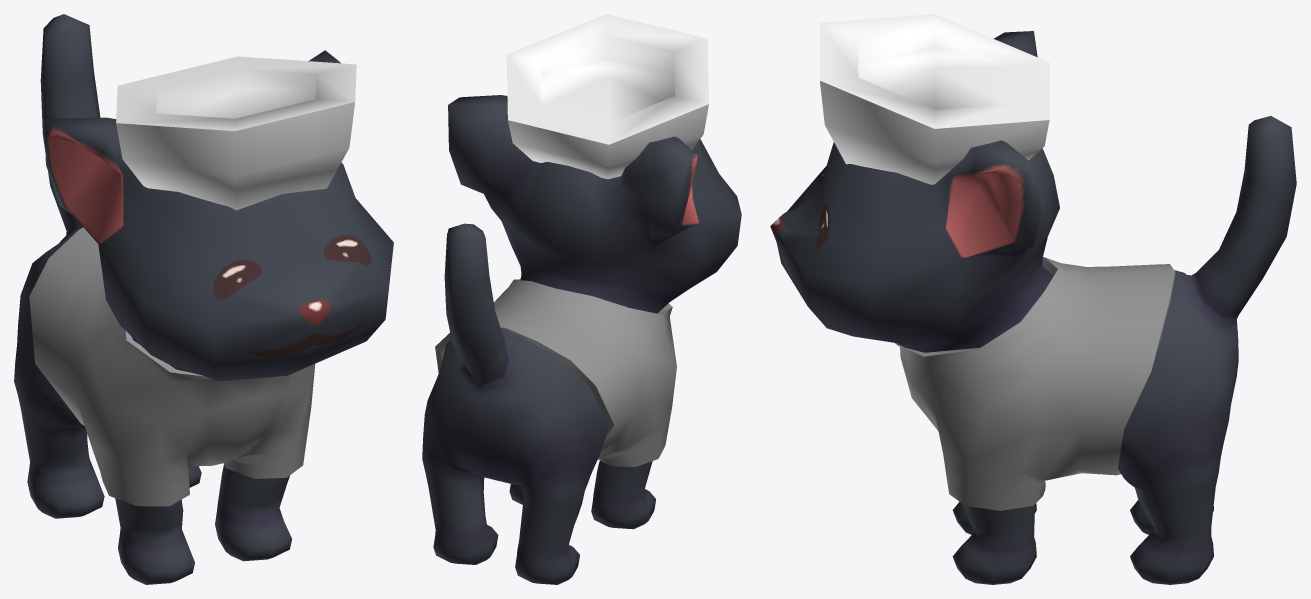
File: Healthy Cat03.fbx
3 renders of one model, left to right at view 1: azimuth 30°, elevation 25°; view 2: azimuth 150°, elevation 25°; view 3: azimuth 270°, elevation 25°, orthographic. The views are drawn at different scales.
Visible parts, largest first — view 1: Cat_Base002, tshirt001, Healthy_Cat_Hat; view 2: Cat_Base002, Healthy_Cat_Hat, tshirt001; view 3: Cat_Base002, tshirt001, Healthy_Cat_Hat.
Part boxes in pixels (<box>): Cat_Base002: <box>14,14,393,584</box>; tshirt001: <box>29,227,315,506</box>; Healthy_Cat_Hat: <box>116,56,356,210</box>; Cat_Base002: <box>422,95,741,584</box>; Healthy_Cat_Hat: <box>506,14,708,179</box>; tshirt001: <box>435,279,676,466</box>; Cat_Base002: <box>770,31,1296,584</box>; tshirt001: <box>895,257,1175,510</box>; Healthy_Cat_Hat: <box>819,14,1049,184</box>.
Bounding box in the file's own units: 1.75 × 2.83 × 2.96.
3 materials, 1 textured.
